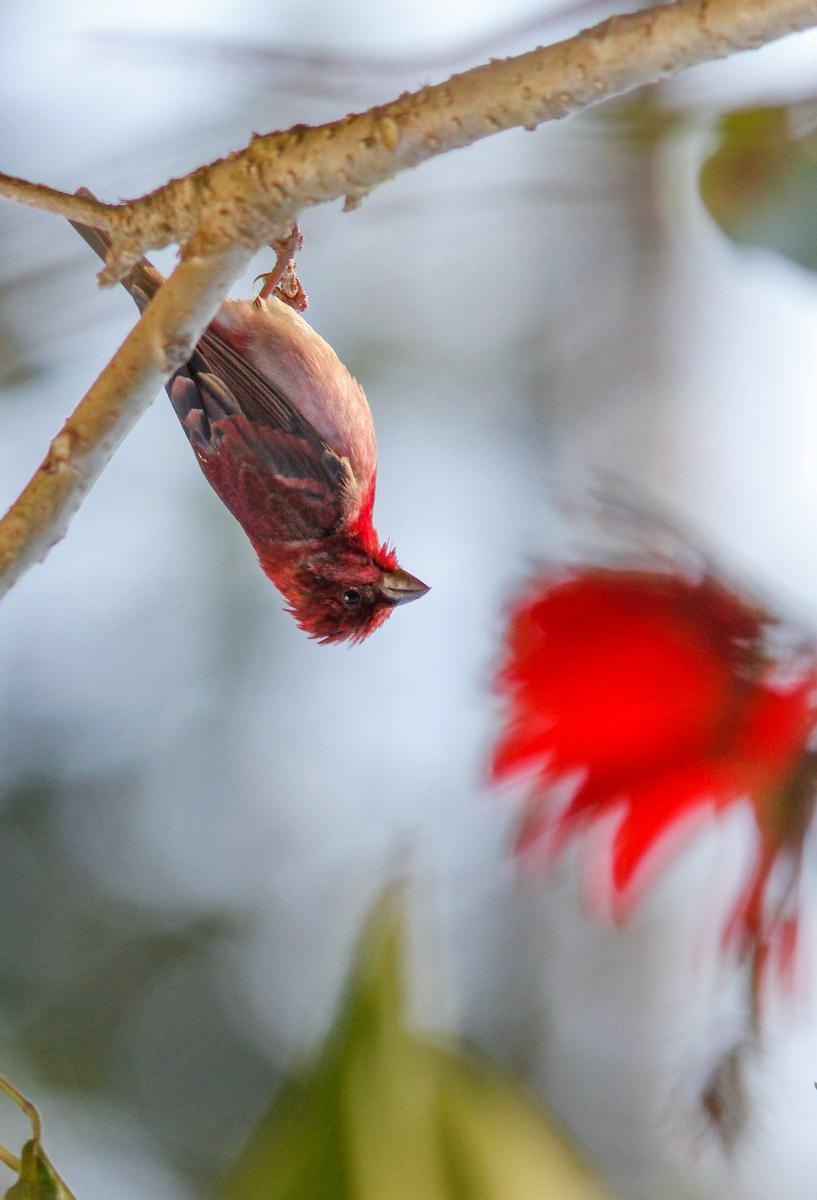rosefinch: (112, 231, 465, 657)
